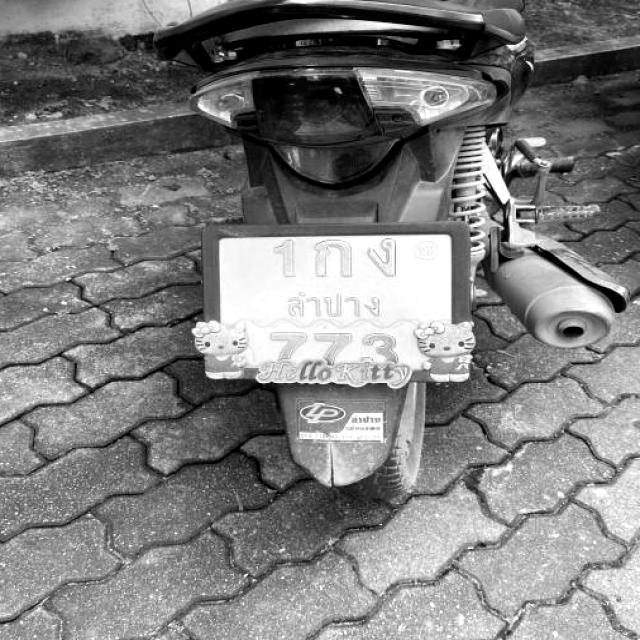letters: (354, 330, 405, 375), (310, 234, 356, 278), (366, 233, 404, 283), (312, 332, 349, 367), (272, 325, 304, 365), (272, 236, 302, 276)
license-plate: (214, 228, 466, 376)
province: (279, 291, 397, 323)
